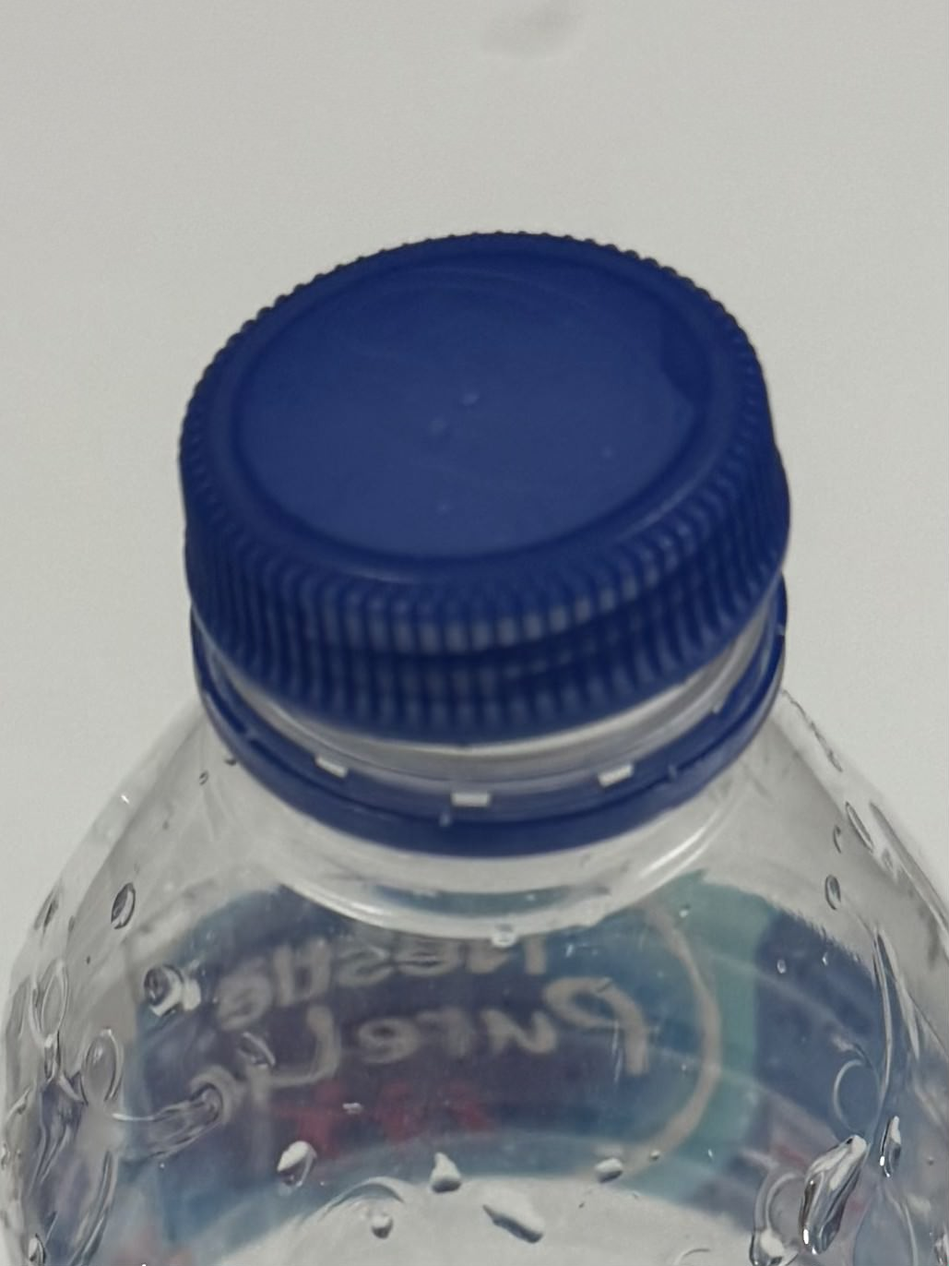half_cap: (168, 221, 799, 841)
